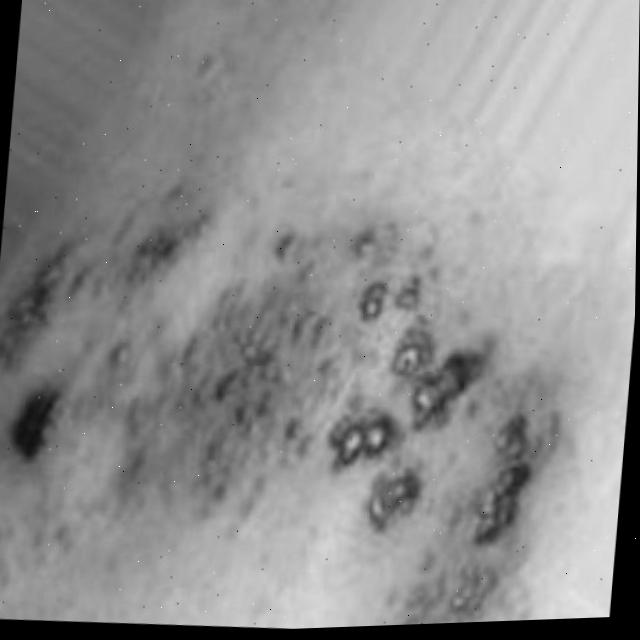Shingles: (0, 172, 588, 640)
